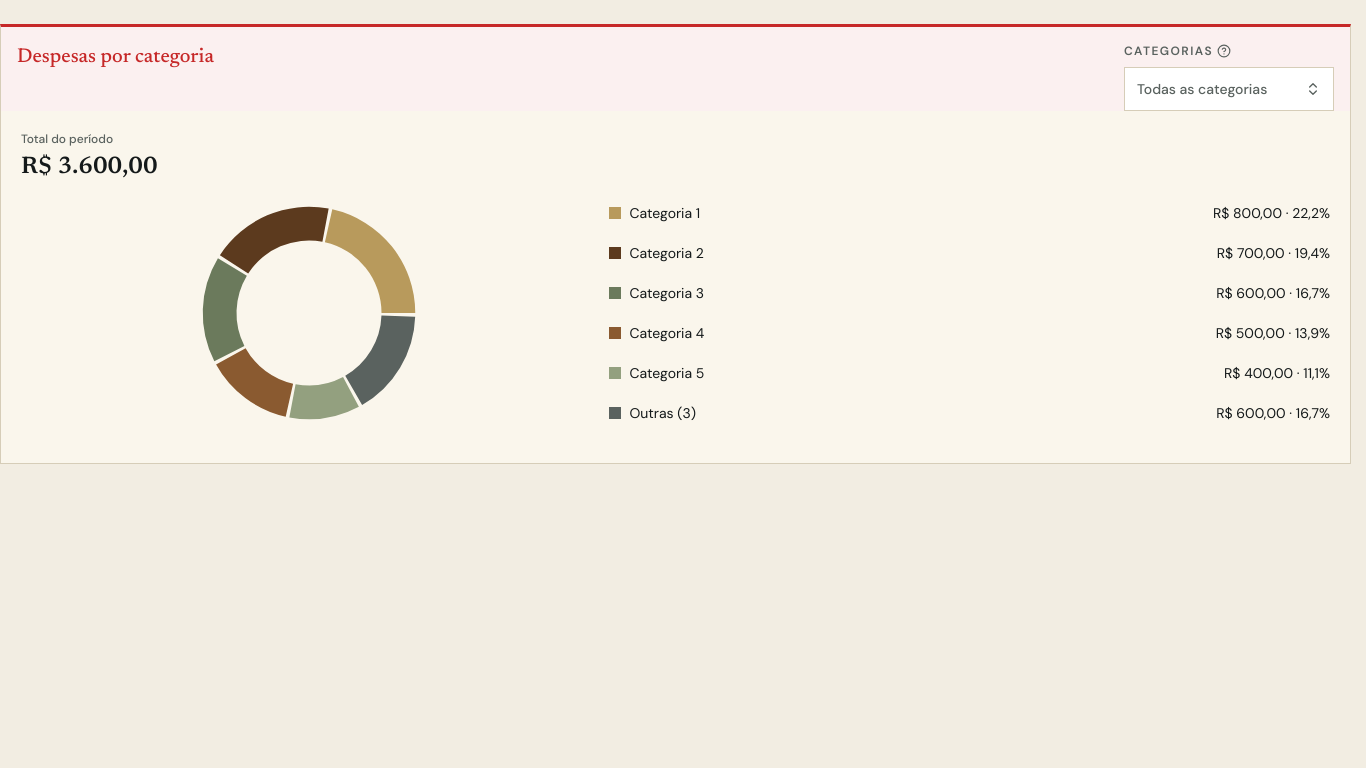
it: Outras abre só as categorias agrupadas, e permite tentar novamente após erro
Step 1. Click the button with aria-label "Detalhar Outras (3)" → (663, 413), box [609,399,1330,427]
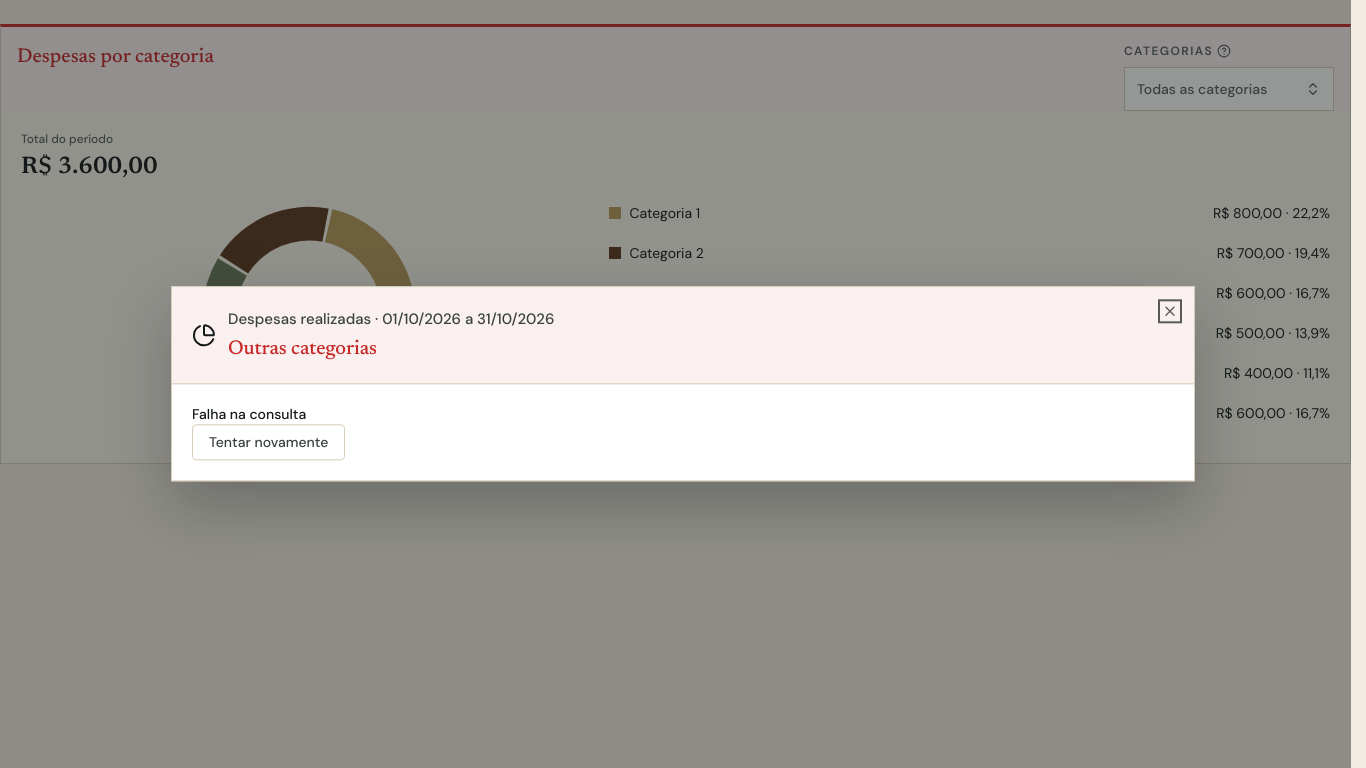
Expected: the text "Falha na consulta" is shown, [192,406,306,424]
Step 2. Click the button "Tentar novamente" → (269, 443), box [192,425,345,461]
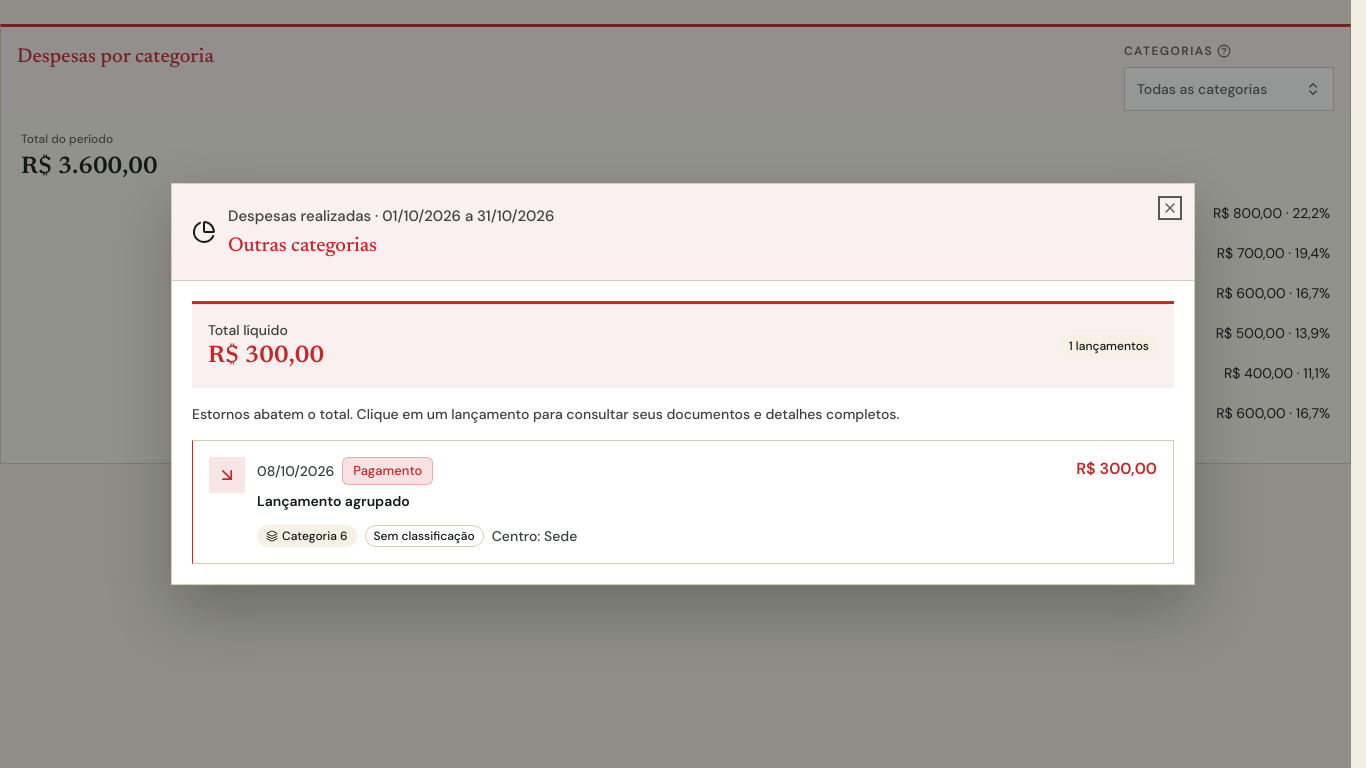
Expected: the text "Lançamento agrupado" is shown, [257,492,410,510]
Expected: the text "R$ 300,00" below "Total líquido" is shown, [208,344,324,368]
